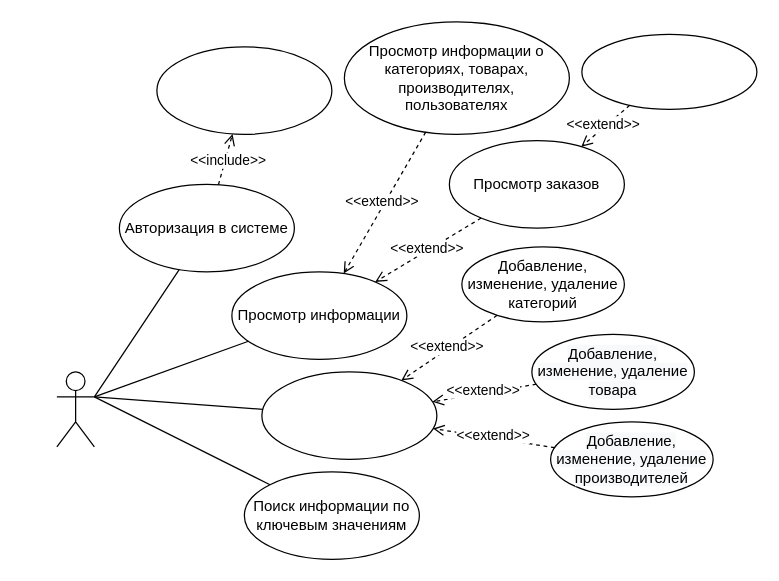
Some shapes in this 779 by 581 pixel diagram are drawn without their labels. Here are the shapes that lost their labels. From the top down, the centre of each, then its label:
the point at 244,90: Ввод логина и пароля администратора
the point at 669,71: Изменение статуса заказа с "оплачено" на "доставлено"
the point at 75,409: Администратор
the point at 349,415: Актуализация информации
